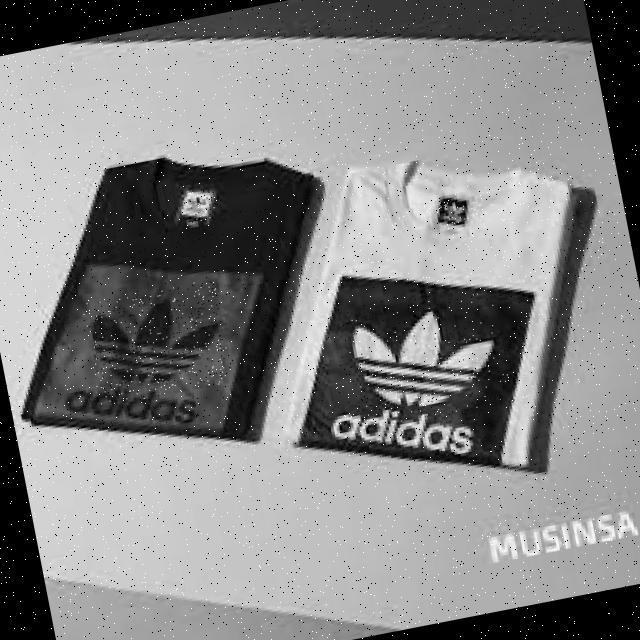Adidas: (341, 288, 516, 430), (81, 279, 235, 408), (182, 187, 219, 224), (438, 196, 479, 226)
